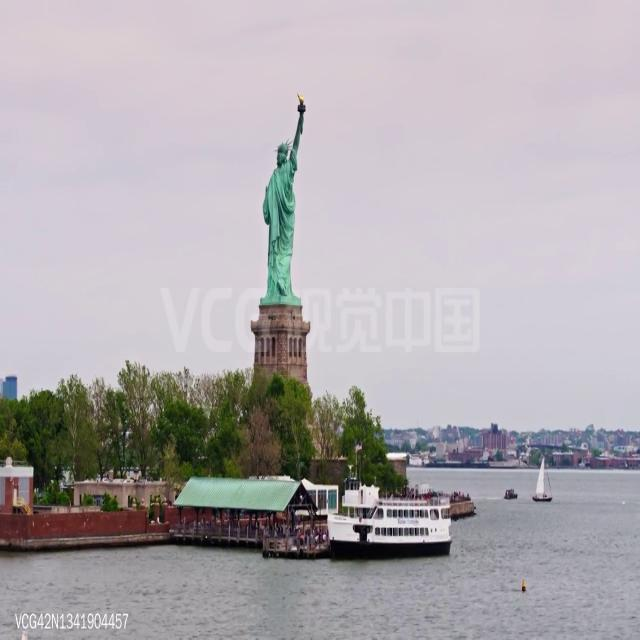houseboat: (503, 486, 518, 501)
passenger ship: (323, 492, 452, 556)
sailboat: (532, 450, 552, 502)
